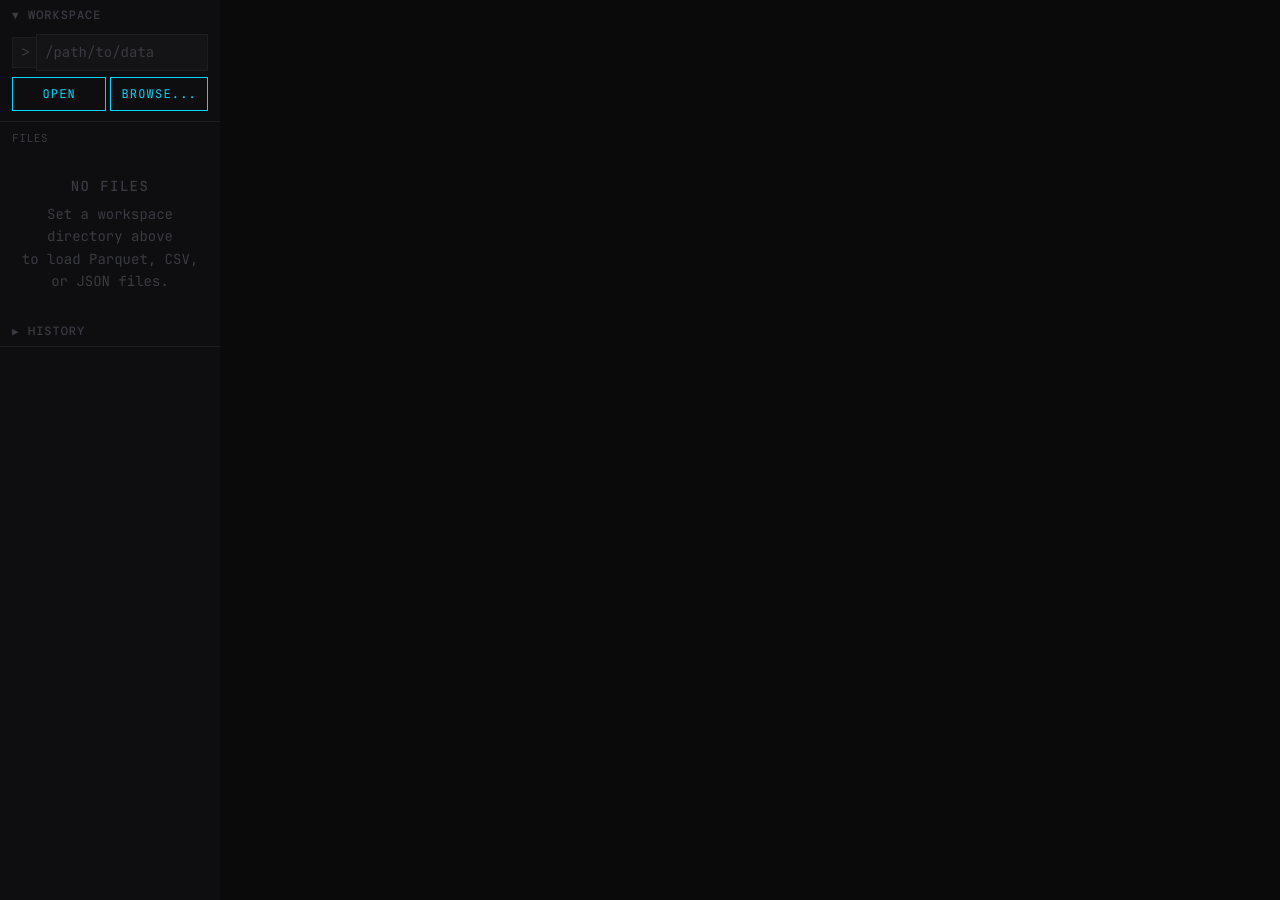
Test: FileExplorer › clicking browse opens folder picker modal
Click the button "browse..." at (159, 94), box 110,77 -> 208,111
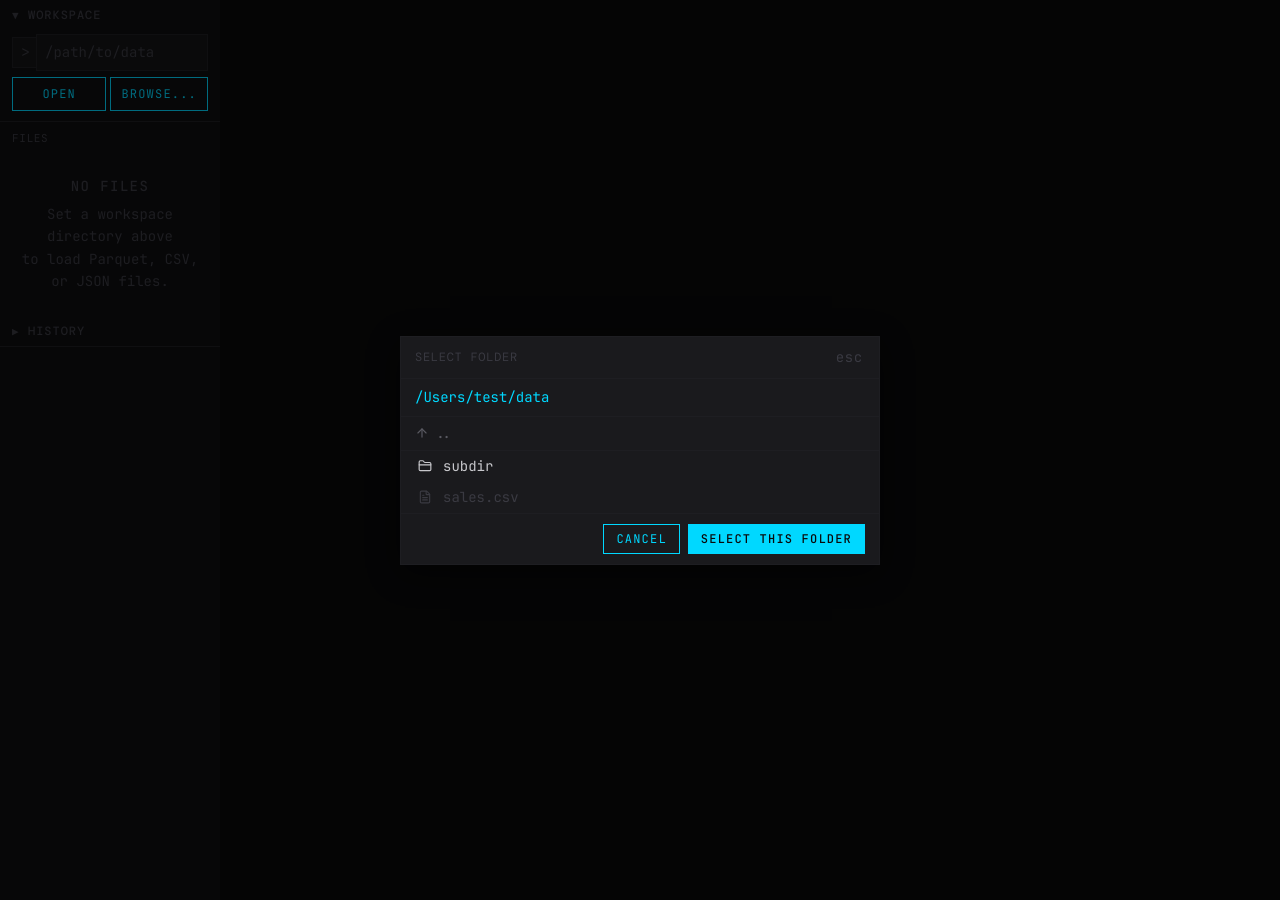
Expected: the text "select folder" is shown, 415,348 -> 518,366
Expected: the text "/Users/test/data" is shown, 401,378 -> 879,416
Expected: the text "subdir" is shown, 443,456 -> 493,476
